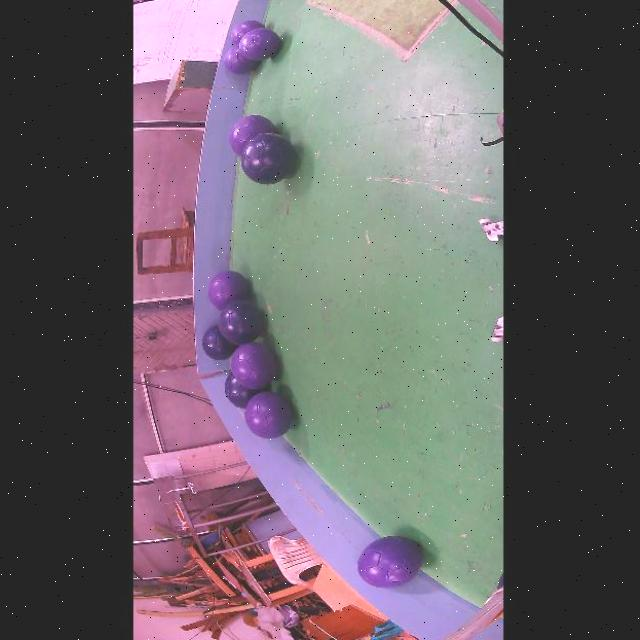B: (238, 133, 294, 185), (216, 300, 261, 345), (223, 372, 265, 408), (201, 325, 236, 361)
P: (355, 536, 421, 587), (243, 392, 291, 439), (229, 342, 275, 389), (227, 115, 275, 155), (206, 271, 247, 311), (237, 28, 279, 61), (223, 45, 257, 74), (229, 20, 262, 45)
